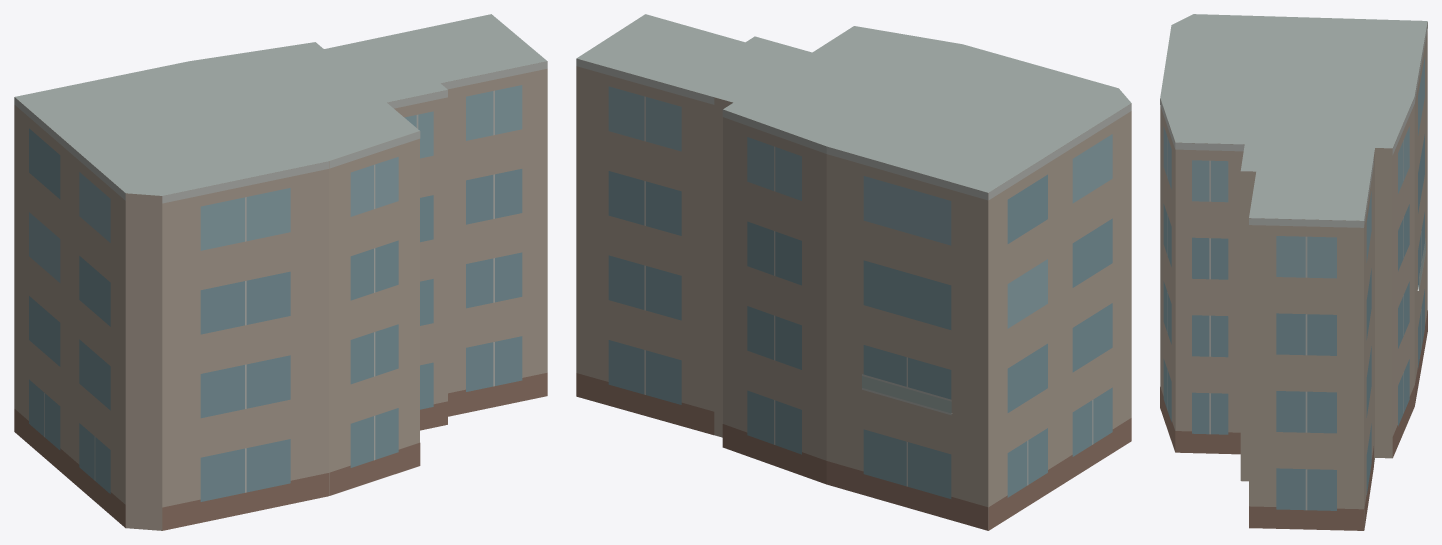
Rendered from survey-upis-32896785.glb.
The picture shows the model from 3 angles, left to right: view 1: azimuth 30°, elevation 25°; view 2: azimuth 150°, elevation 25°; view 3: azimuth 270°, elevation 25°; orthographic projection. The views are drawn at different scales.
Visible parts, largest first — view 1: survey-upis-32896785.tmp; view 2: survey-upis-32896785.tmp; view 3: survey-upis-32896785.tmp.
Part boxes in pixels (x1,y1,x2,y2): survey-upis-32896785.tmp: (14, 14, 547, 530); survey-upis-32896785.tmp: (576, 14, 1131, 530); survey-upis-32896785.tmp: (1160, 14, 1427, 530).
Size of the model in its own units: 15.47 by 10.8 by 8.46.
